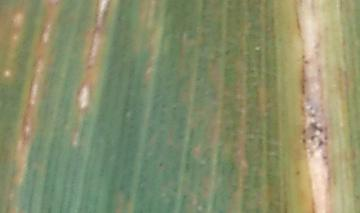tarspot: (308, 119, 325, 134), (309, 134, 323, 149), (91, 25, 104, 36), (293, 168, 301, 178), (321, 151, 329, 160), (301, 136, 307, 147), (302, 58, 310, 66), (300, 126, 307, 135), (157, 160, 164, 168)
